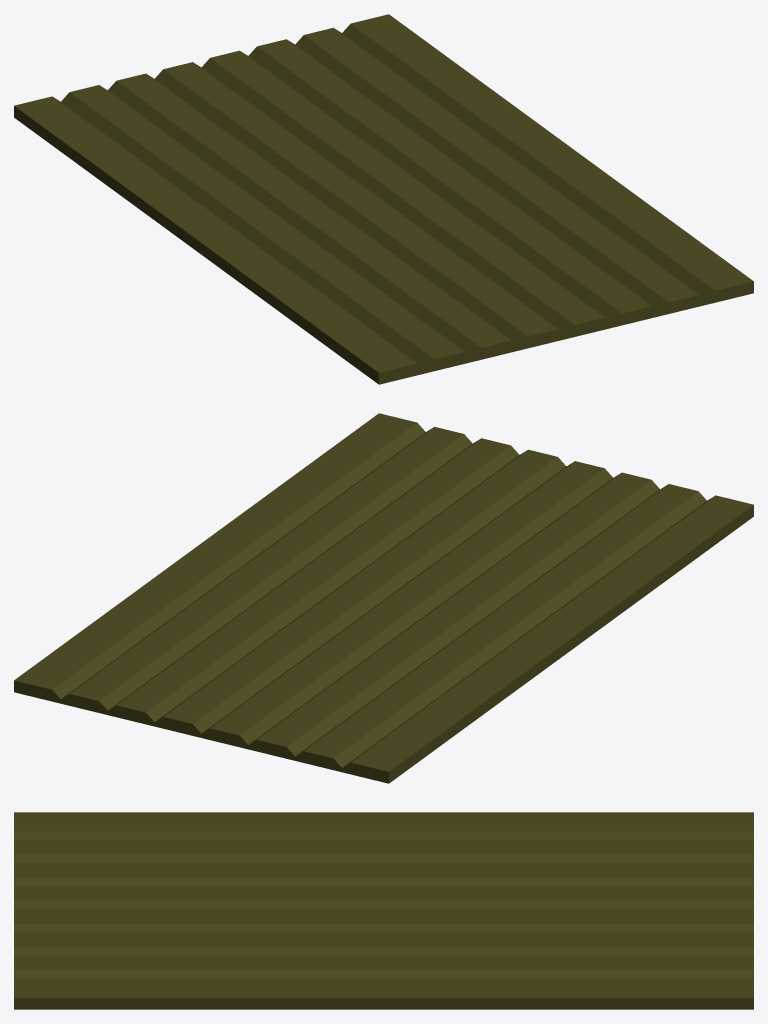
File: SM_Metalsheet.fbx
3 renders of one model, top to bottom at view 1: azimuth 30°, elevation 25°; view 2: azimuth 150°, elevation 25°; view 3: azimuth 270°, elevation 25°, orthographic.
Parts seen in each view (by area): view 1: metalsheet; view 2: metalsheet; view 3: metalsheet.
Boxes of the visible parts, x1,y1,x2,y2 form: metalsheet: (14, 14, 753, 384); metalsheet: (14, 413, 753, 783); metalsheet: (14, 812, 753, 1009).
Bounding box in the file's own units: 60.82 × 1.84 × 103.
